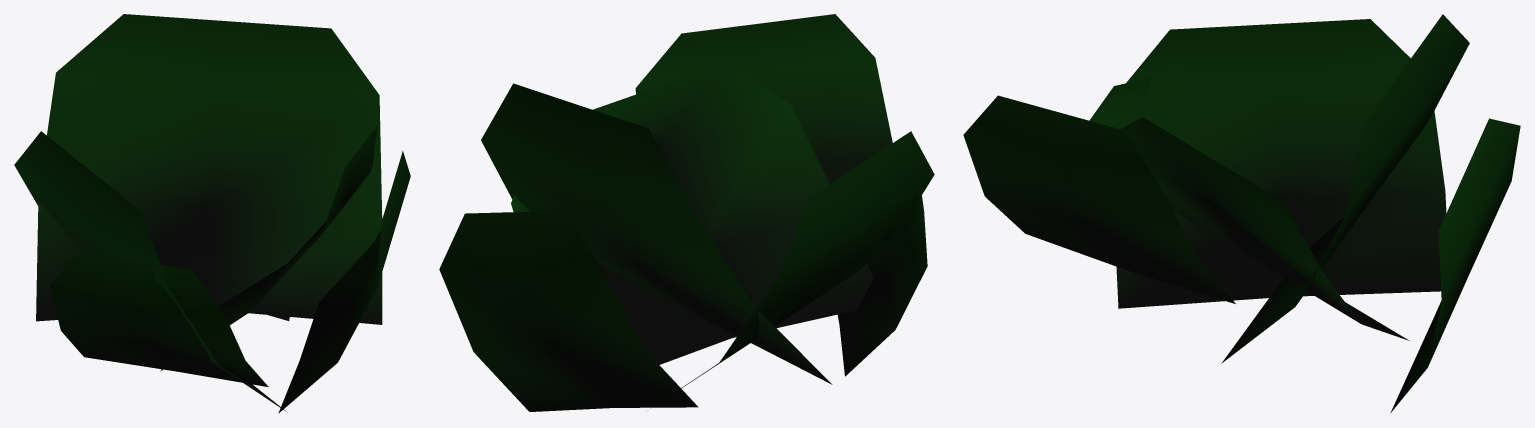
The model's file is GenericGrasShortA_afsTREE_xlp.fbx.
The picture shows the model from 3 angles, left to right: view 1: azimuth 30°, elevation 25°; view 2: azimuth 150°, elevation 25°; view 3: azimuth 270°, elevation 25°; orthographic projection. The views are drawn at different scales.
Visible parts, largest first — view 1: GenericGrasShortA_Leaf.003_xt02_xw002; view 2: GenericGrasShortA_Leaf.003_xt02_xw002; view 3: GenericGrasShortA_Leaf.003_xt02_xw002.
Part boxes in pixels (x1,y1,x2,y2): GenericGrasShortA_Leaf.003_xt02_xw002: (14,14,410,413); GenericGrasShortA_Leaf.003_xt02_xw002: (439,14,934,411); GenericGrasShortA_Leaf.003_xt02_xw002: (963,14,1520,413).
Bounding box in the file's own units: 0.6179 × 0.5047 × 0.7721.
